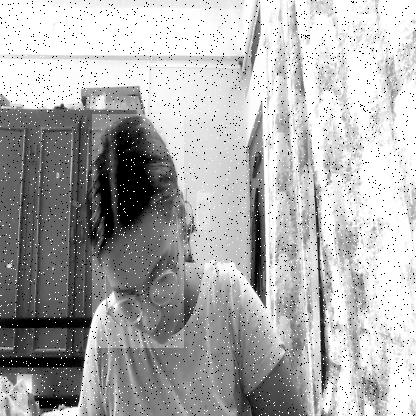Distracted: (92, 114, 184, 348)
